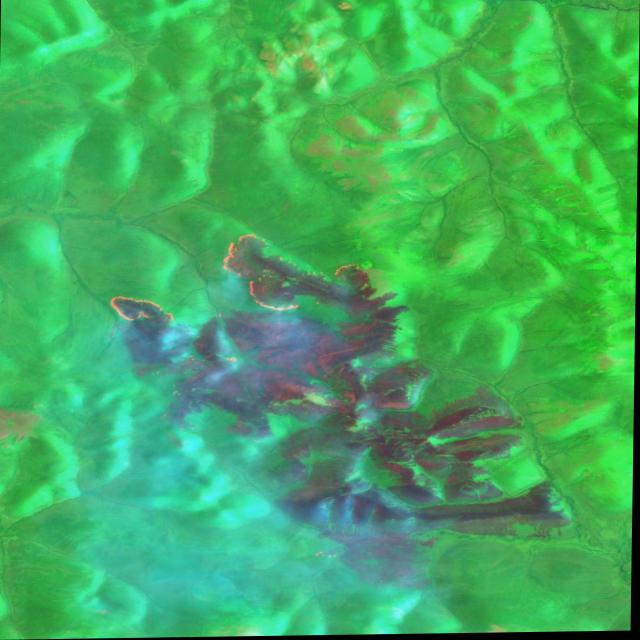fire: (222, 227, 377, 320), (89, 276, 190, 345)
